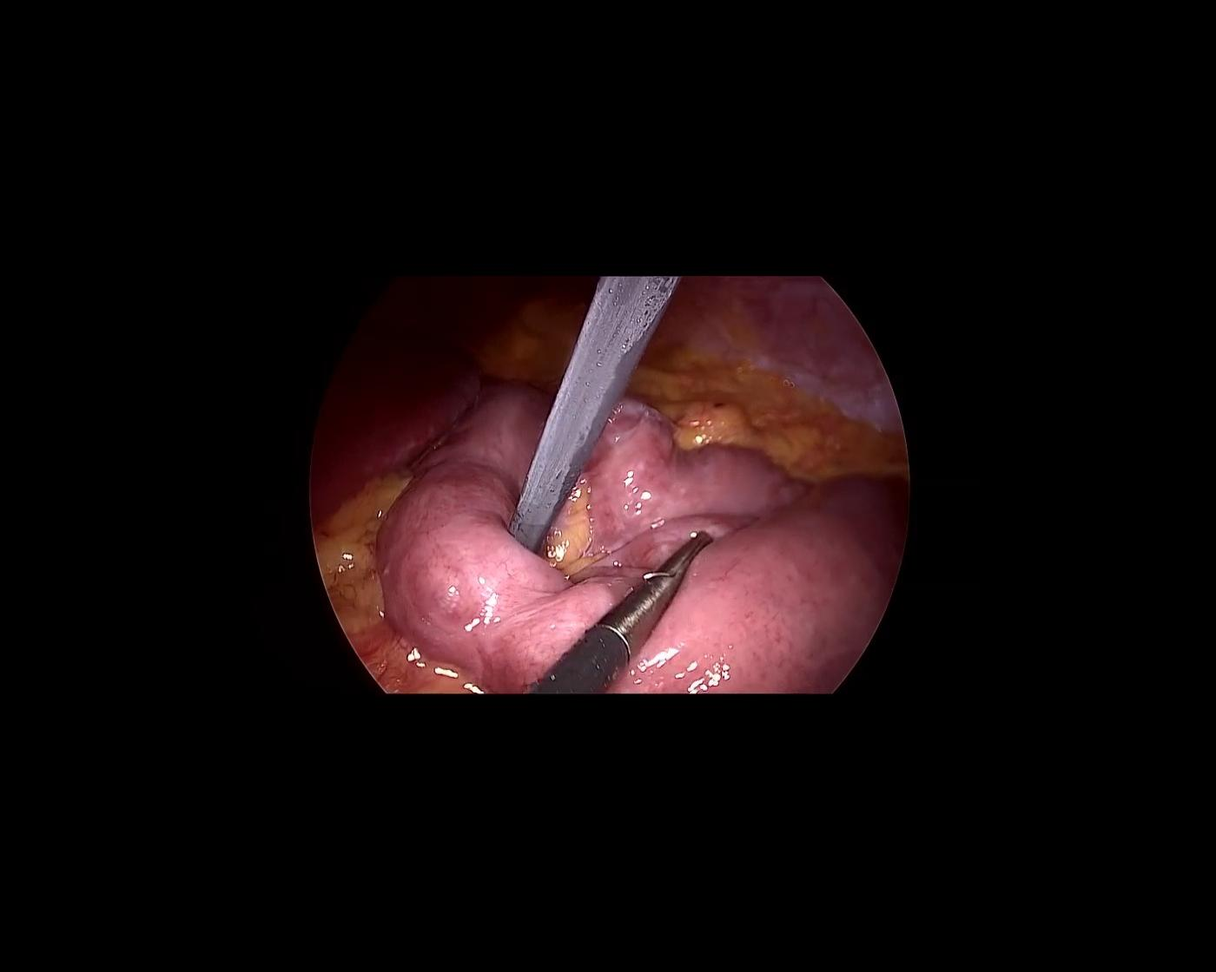Forceps: (472, 243, 683, 555), (527, 519, 735, 727)
Liver: (241, 295, 496, 533)
